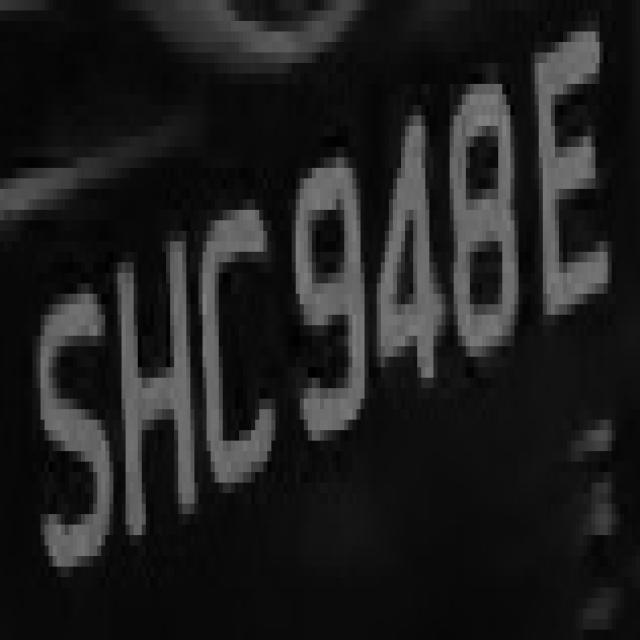4: (356, 52, 449, 440)
8: (433, 53, 522, 409)
9: (284, 95, 368, 482)
C: (195, 168, 292, 524)
E: (526, 21, 616, 367)
H: (101, 231, 190, 556)
S: (28, 272, 122, 588)
